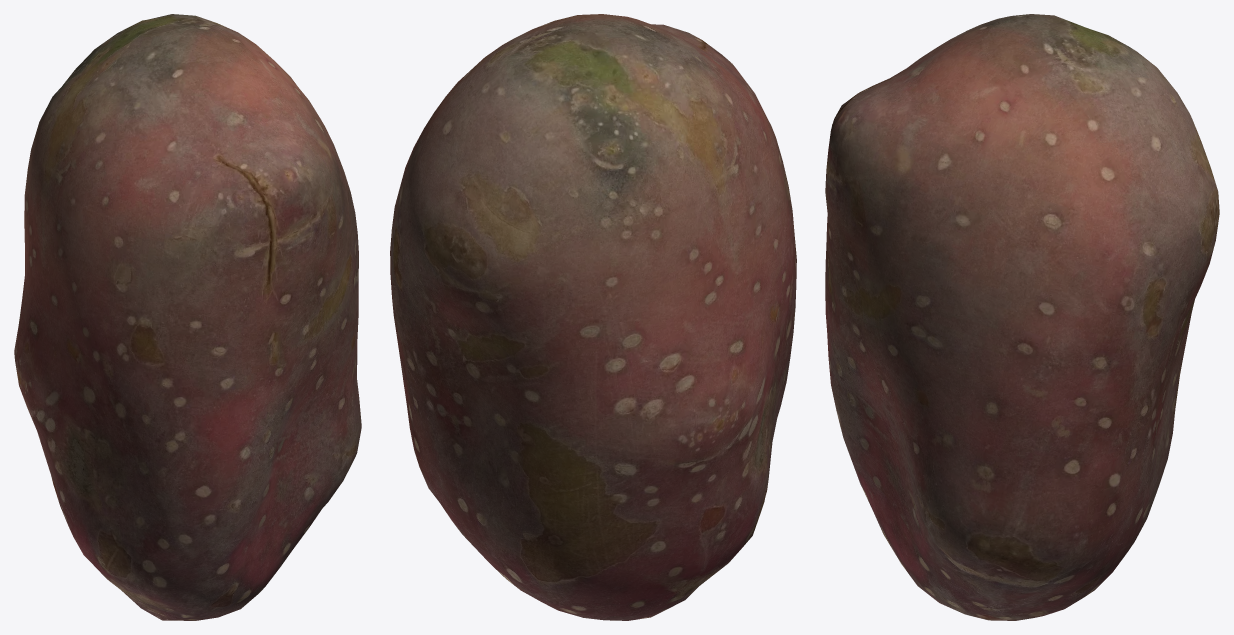
File: sweet_potato.glb
The picture shows the model from 3 angles, left to right: view 1: azimuth 30°, elevation 25°; view 2: azimuth 150°, elevation 25°; view 3: azimuth 270°, elevation 25°; orthographic projection. The views are drawn at different scales.
Parts seen in each view (by area): view 1: sweet_potato; view 2: sweet_potato; view 3: sweet_potato.
Boxes of the visible parts, left/top/right/bottom form: sweet_potato: left=14, top=14, right=361, bottom=620; sweet_potato: left=390, top=14, right=796, bottom=620; sweet_potato: left=825, top=14, right=1219, bottom=620.
Bounding box in the file's own units: 0.0581 × 0.1005 × 0.061.
1 material, 1 textured.
